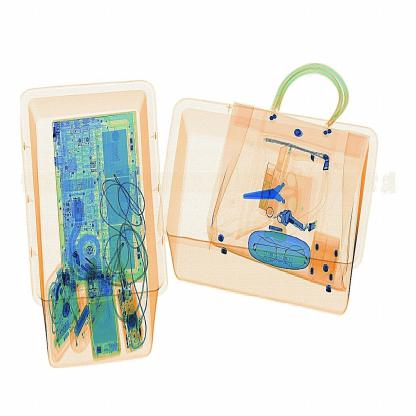gun: (242, 164, 307, 218)
